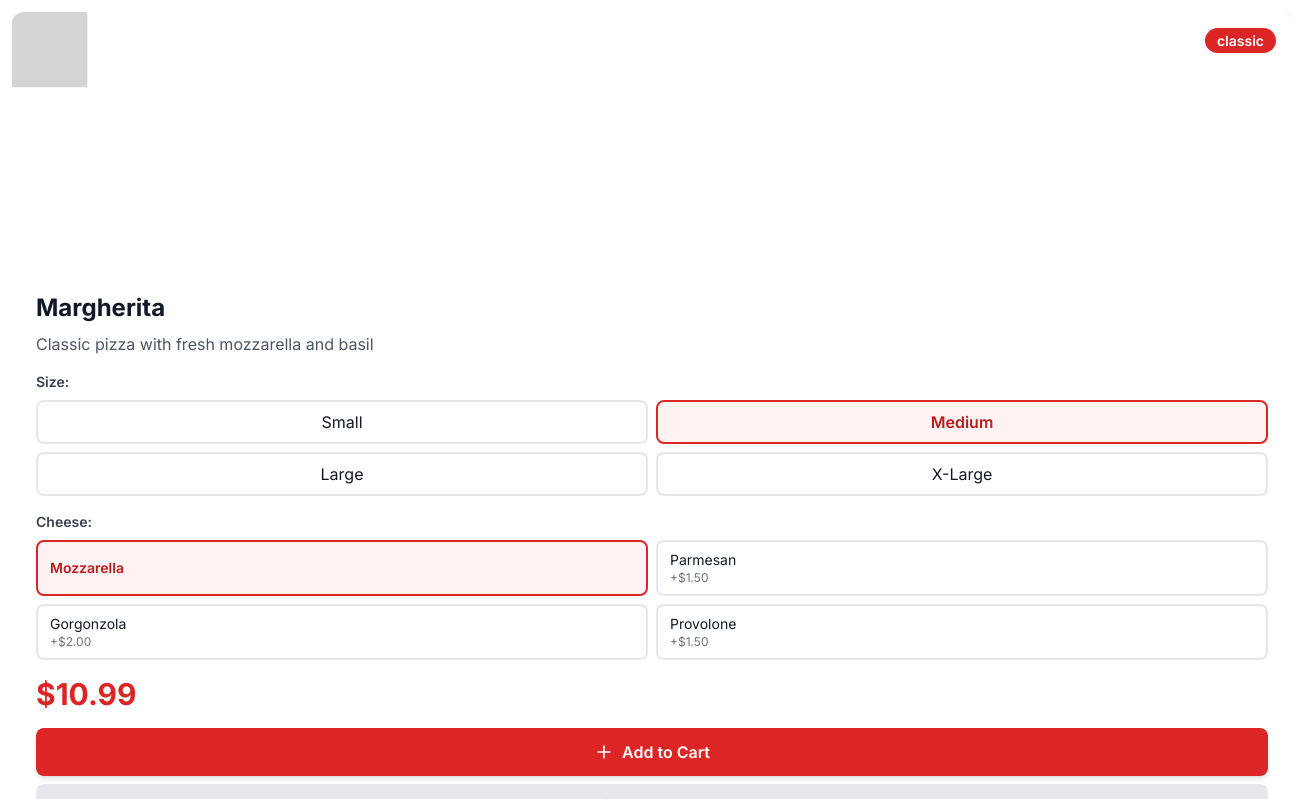
Test case: PizzaCard › should update price when size changes
Click the button "Large".
click(342, 474)  # box [36,452,648,496]
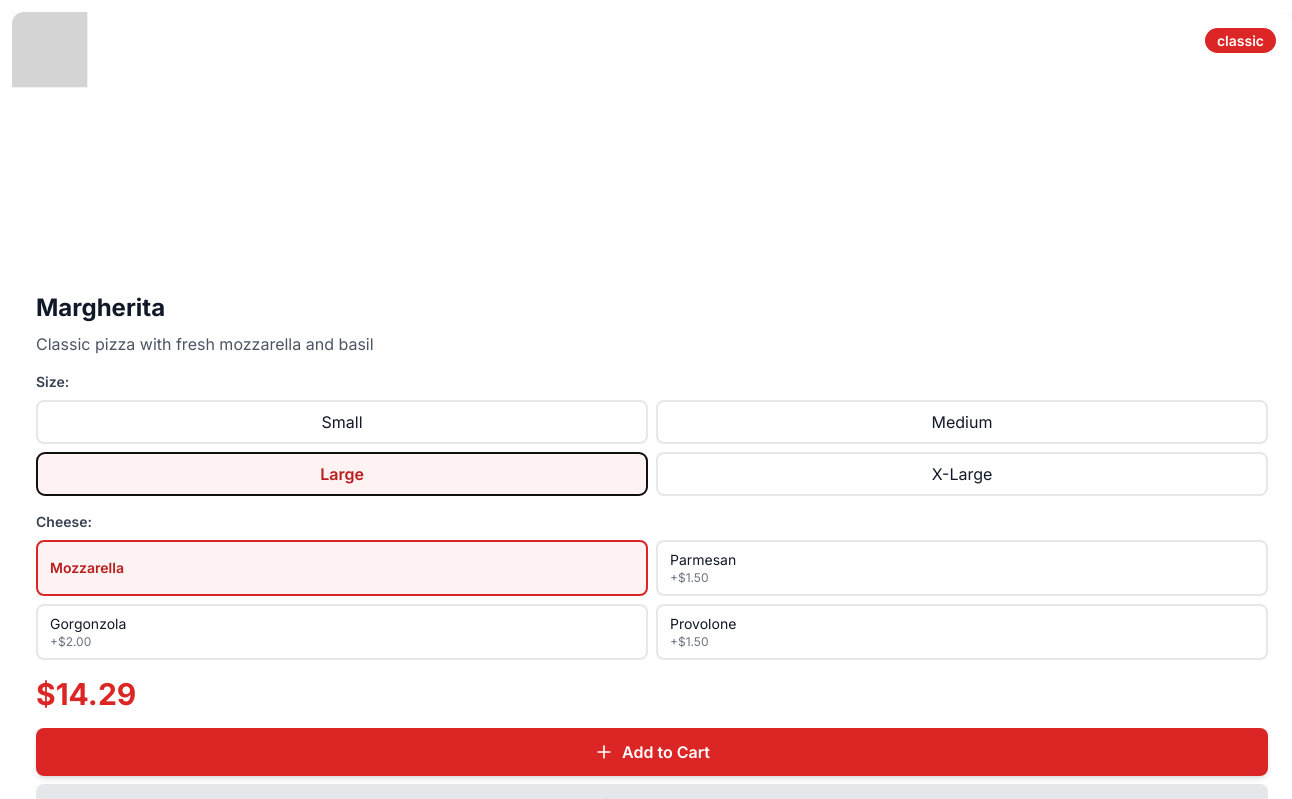
expect the text "$14.29" is shown: met, box [36,676,136,712]
